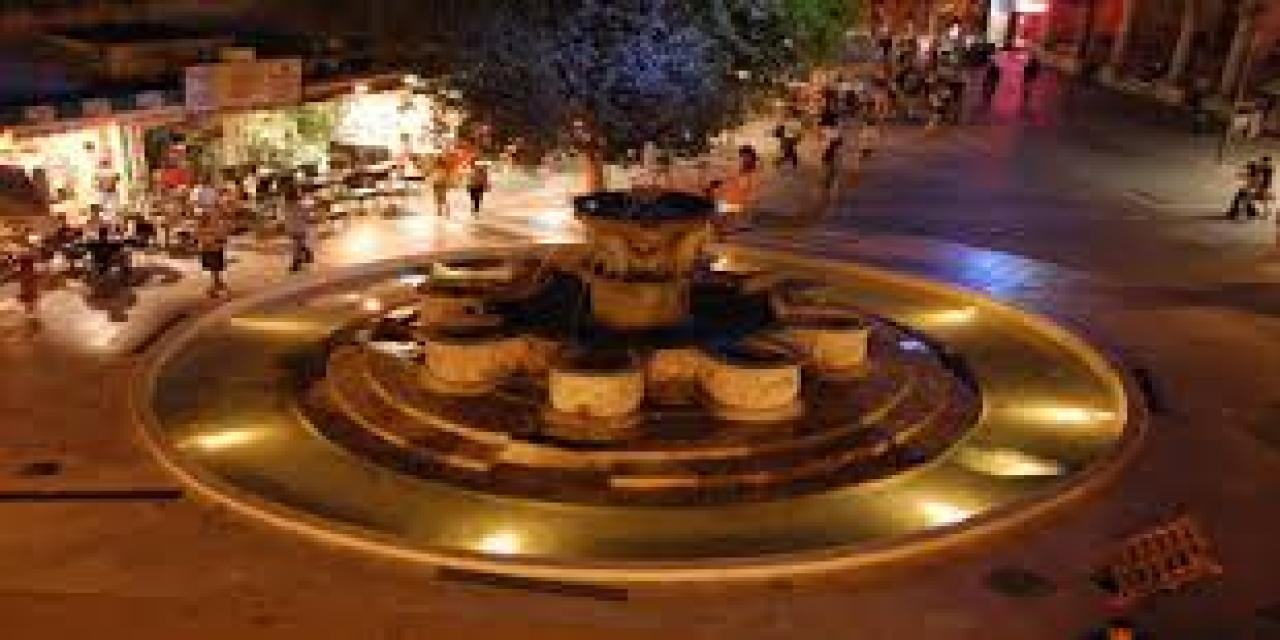Liontaria: (413, 186, 877, 436)
